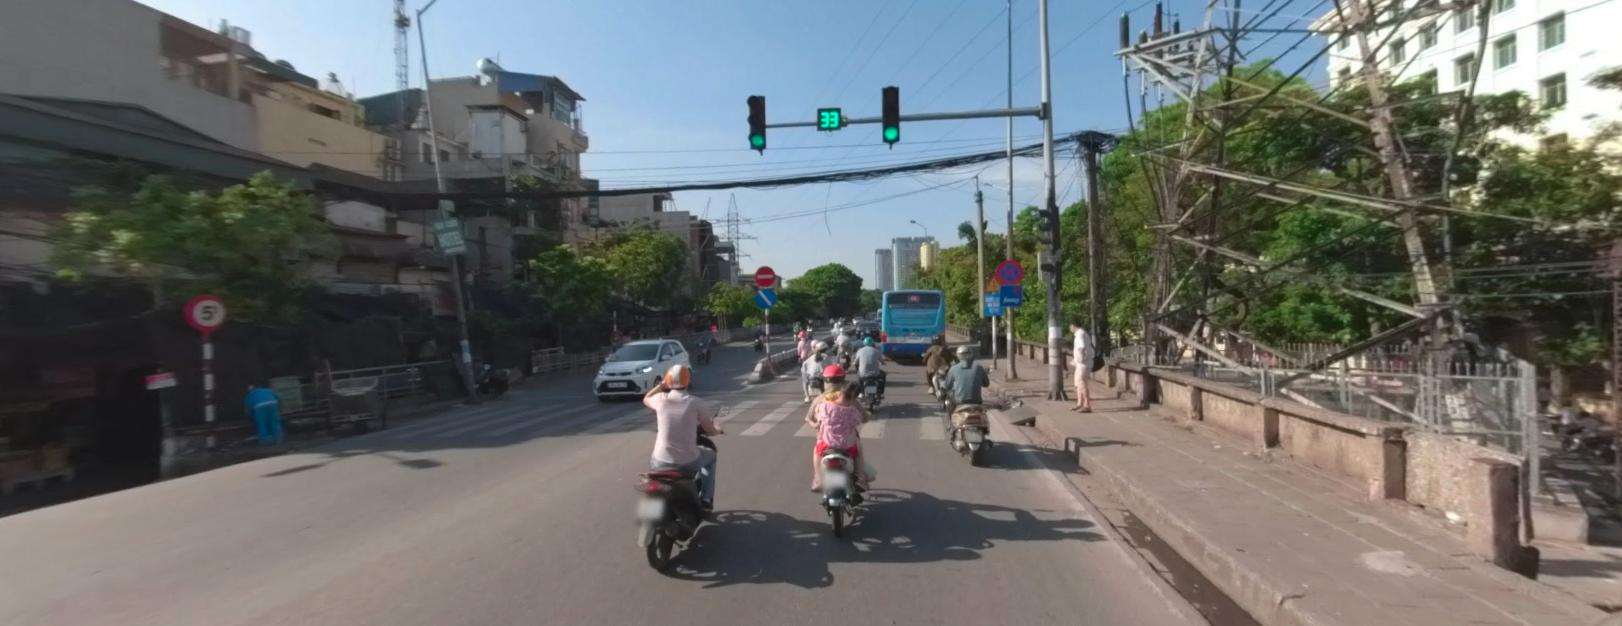Cam con lai: (184, 292, 231, 330)
Cam dung va do: (996, 257, 1023, 284)
Cam nguoc chieu: (753, 264, 774, 285)
Hieu lenh: (753, 286, 776, 306)
